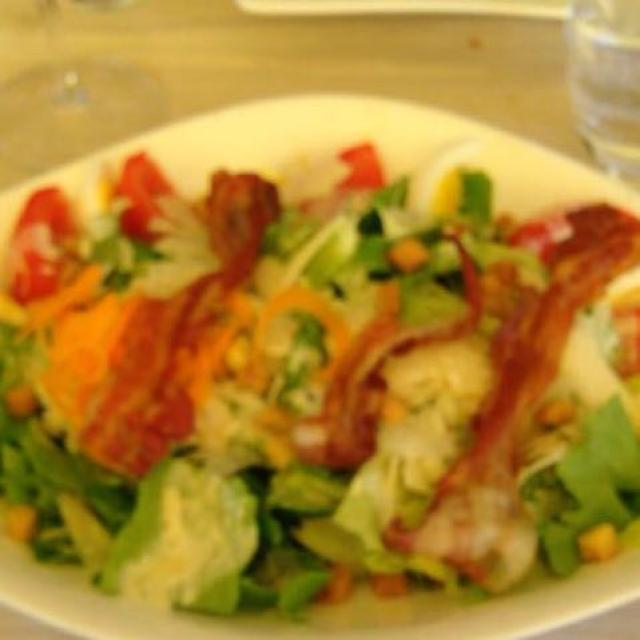bacon: (81, 160, 633, 587)
croutons: (374, 246, 622, 570)
salad: (7, 189, 620, 606)
tomato: (2, 134, 390, 333)
